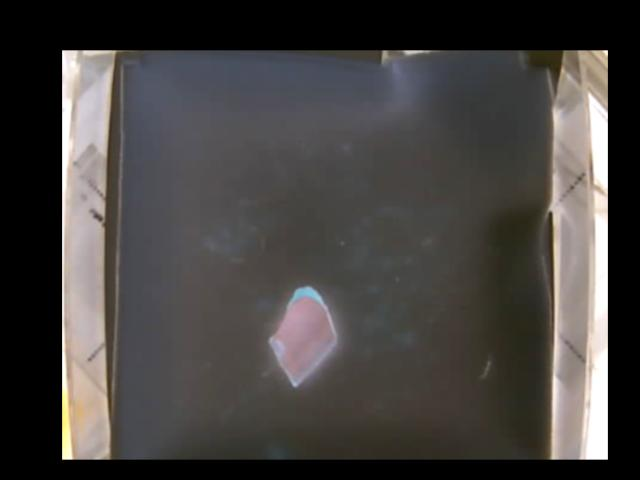China: (269, 285, 339, 385)
